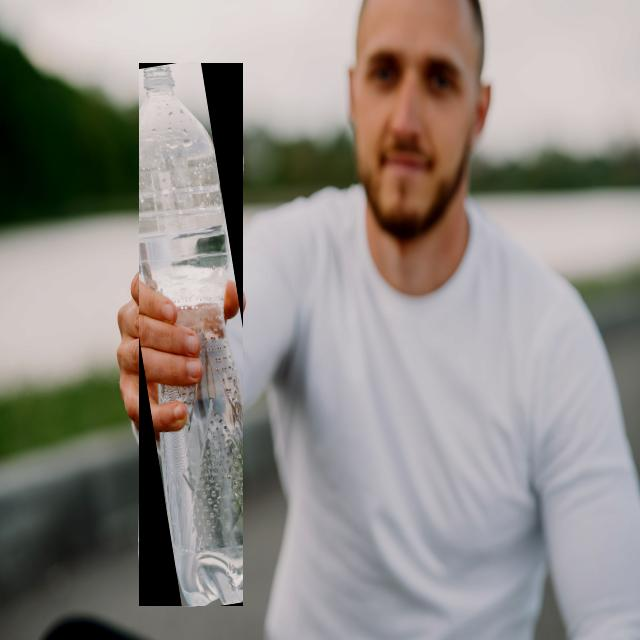Bottle: (139, 64, 243, 606)
